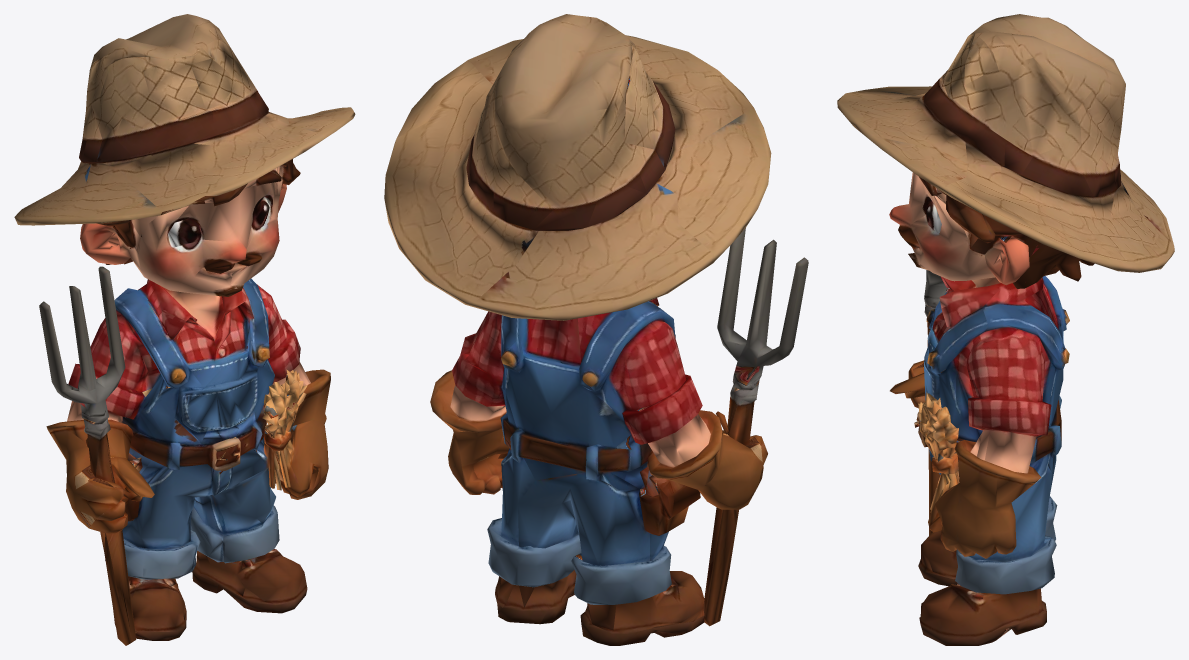
File: fermer.glb
3 views of the same model, side by side, from view 1: azimuth 30°, elevation 25°; view 2: azimuth 150°, elevation 25°; view 3: azimuth 270°, elevation 25° (orthographic). The views are drawn at different scales.
Parts seen in each view (by area): view 1: model; view 2: model; view 3: model.
Boxes of the visible parts, <box> form: model: <box>14,14,355,645</box>; model: <box>384,14,808,645</box>; model: <box>837,14,1174,645</box>.
Size of the model in its own units: 1.17 by 1.9 by 1.01.
Materials: 1 (1 with a texture image).
